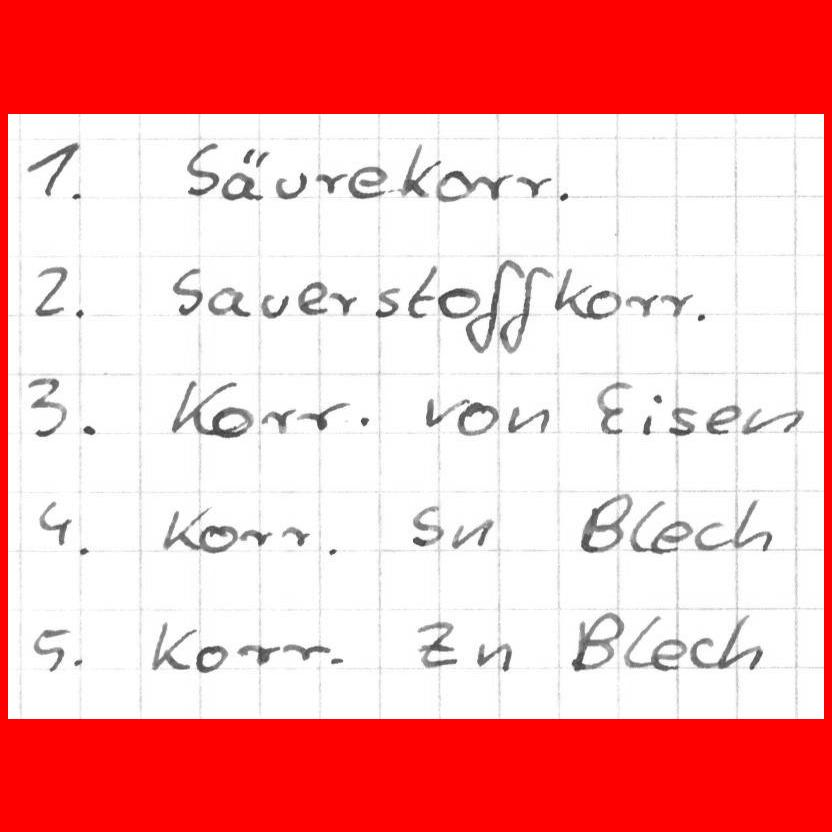Char: (465, 256, 508, 355), (505, 264, 552, 348), (26, 137, 80, 203), (578, 490, 631, 557), (567, 612, 624, 674), (23, 374, 72, 441), (221, 144, 269, 207), (171, 377, 223, 434), (28, 261, 75, 318), (718, 616, 764, 672), (149, 619, 197, 672), (413, 619, 461, 670), (30, 623, 77, 675), (733, 497, 775, 555), (35, 495, 76, 552), (399, 142, 439, 200), (182, 142, 220, 202), (160, 505, 205, 555), (594, 381, 636, 434), (621, 608, 653, 671), (168, 265, 206, 318), (210, 401, 257, 440), (553, 264, 587, 316), (422, 391, 462, 435), (407, 506, 445, 552), (745, 406, 801, 437), (407, 263, 437, 319), (206, 282, 251, 319), (628, 494, 655, 555), (648, 518, 692, 555), (448, 517, 493, 553), (433, 166, 474, 205), (507, 403, 552, 437), (648, 635, 688, 672), (472, 637, 514, 672), (438, 284, 478, 320), (349, 165, 390, 200), (303, 401, 347, 433), (458, 400, 496, 437), (199, 521, 237, 558), (296, 279, 329, 317), (473, 169, 511, 202), (704, 403, 740, 437), (194, 640, 228, 675), (694, 519, 730, 552), (638, 390, 663, 437), (282, 640, 330, 664), (260, 406, 296, 436), (238, 639, 278, 666), (274, 170, 308, 201), (372, 283, 401, 319), (659, 286, 692, 317), (667, 404, 697, 437), (688, 634, 715, 669), (259, 289, 288, 320), (518, 173, 552, 199), (587, 291, 618, 319), (626, 291, 658, 318), (330, 287, 359, 316), (316, 170, 348, 196), (280, 523, 311, 549), (238, 524, 269, 549), (70, 300, 89, 325), (77, 419, 101, 438), (323, 541, 343, 560), (355, 411, 374, 429), (555, 187, 573, 205), (692, 307, 710, 325), (326, 654, 346, 669), (68, 187, 84, 204), (76, 544, 92, 558), (70, 655, 84, 670)
